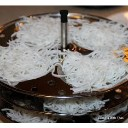idiyappam: (64, 51, 122, 85), (1, 44, 53, 80), (73, 19, 125, 51), (15, 15, 59, 47)
